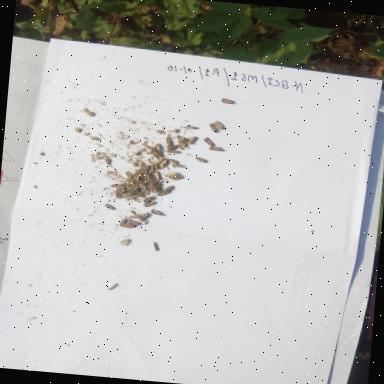pbw: (192, 154, 211, 168), (151, 154, 165, 171), (160, 184, 176, 198), (148, 239, 162, 254), (218, 97, 239, 106), (207, 144, 225, 154), (183, 122, 201, 132), (212, 119, 226, 131), (119, 237, 134, 248), (150, 147, 165, 158), (125, 218, 143, 227), (140, 194, 156, 204), (144, 186, 164, 194), (132, 170, 144, 182), (122, 184, 140, 192), (186, 135, 198, 147), (162, 136, 174, 148), (176, 139, 190, 149), (114, 186, 124, 200), (104, 202, 118, 212), (166, 142, 180, 152), (168, 173, 185, 181), (107, 280, 118, 292), (166, 168, 179, 178), (139, 164, 152, 174), (150, 208, 166, 216), (153, 168, 163, 180), (153, 142, 163, 154), (137, 182, 147, 194), (146, 145, 159, 154), (128, 212, 142, 220), (174, 134, 188, 142), (143, 200, 157, 208), (124, 170, 134, 181), (171, 162, 186, 169), (203, 136, 213, 146), (208, 122, 218, 132), (124, 194, 138, 201), (107, 182, 123, 188), (166, 158, 182, 164), (142, 184, 151, 194), (167, 149, 182, 155), (140, 211, 148, 222), (160, 159, 168, 170), (120, 190, 134, 196), (158, 189, 170, 196), (133, 193, 145, 200), (122, 223, 138, 228), (116, 217, 126, 225), (150, 162, 157, 172)
